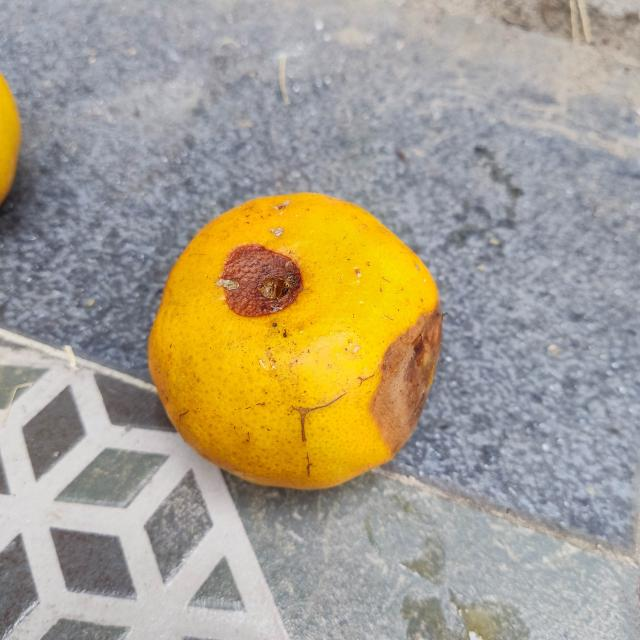orange: (146, 188, 444, 492)
